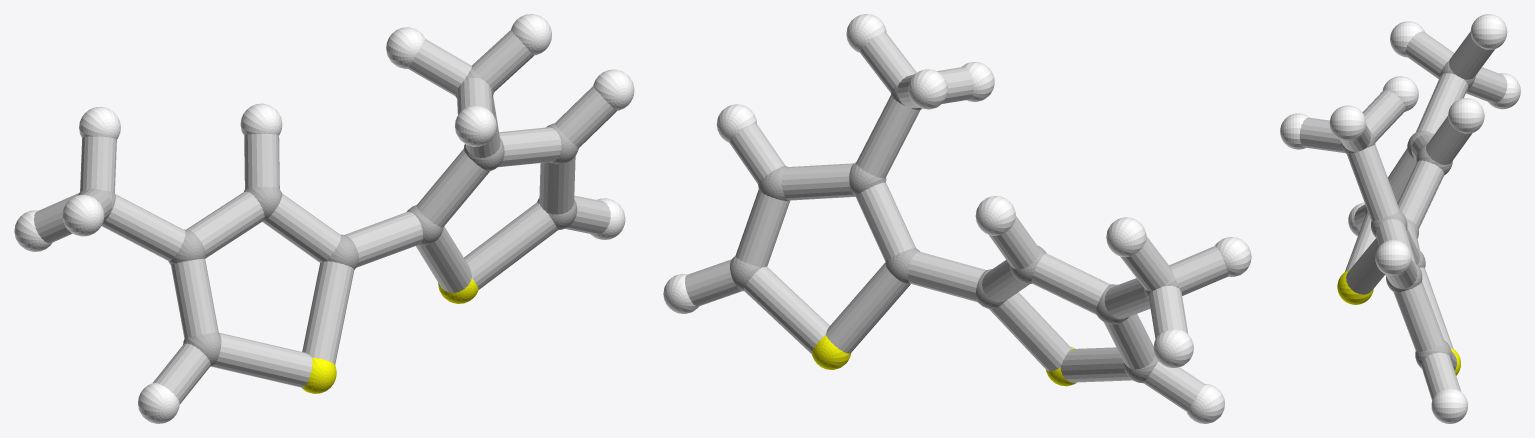
The model's file is Methylthiophene_Phi_5_Theta_230_Methylthiophene.glb.
The picture shows the model from 3 angles, left to right: view 1: azimuth 30°, elevation 25°; view 2: azimuth 150°, elevation 25°; view 3: azimuth 270°, elevation 25°; orthographic projection. The views are drawn at different scales.
Visible parts, largest first — view 1: grp7965, grp3621, grp1, grp7241; view 2: grp7965, grp3621, grp1, grp7241; view 3: grp7965, grp3621, grp1, grp7241.
Part boxes in pixels (<box>): grp7965: <box>34,30,616,404</box>; grp3621: <box>14,14,634,423</box>; grp1: <box>78,68,578,366</box>; grp7241: <box>301,278,478,393</box>; grp7965: <box>685,32,1228,411</box>; grp3621: <box>663,14,1251,423</box>; grp1: <box>730,73,1178,383</box>; grp7241: <box>812,335,1076,386</box>; grp7965: <box>1299,31,1507,400</box>; grp3621: <box>1280,14,1520,423</box>; grp1: <box>1341,60,1475,368</box>; grp7241: <box>1337,269,1460,375</box>.
Bounding box in the file's own units: 9.6 × 5.18 × 3.95.
